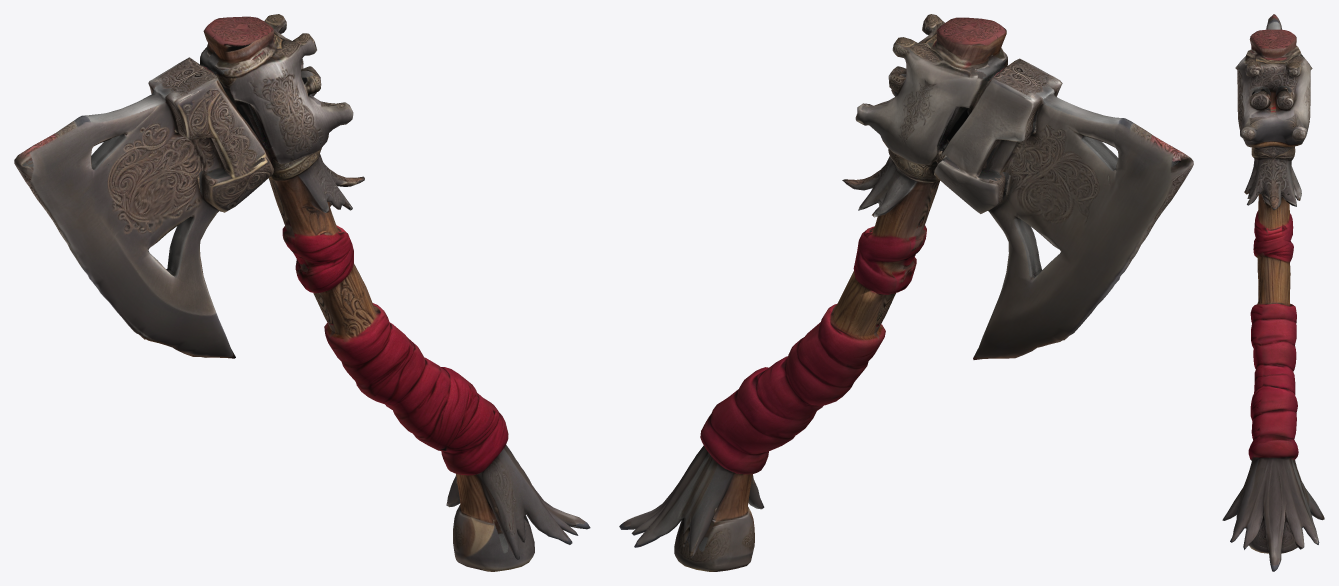
Rendered from PF_Axe2.glb.
3 views of the same model, side by side, from view 1: azimuth 30°, elevation 25°; view 2: azimuth 150°, elevation 25°; view 3: azimuth 270°, elevation 25° (orthographic). The views are drawn at different scales.
Bounding box in the file's own units: 2 × 1.98 × 0.4382.
Materials: 1 (1 with a texture image).
